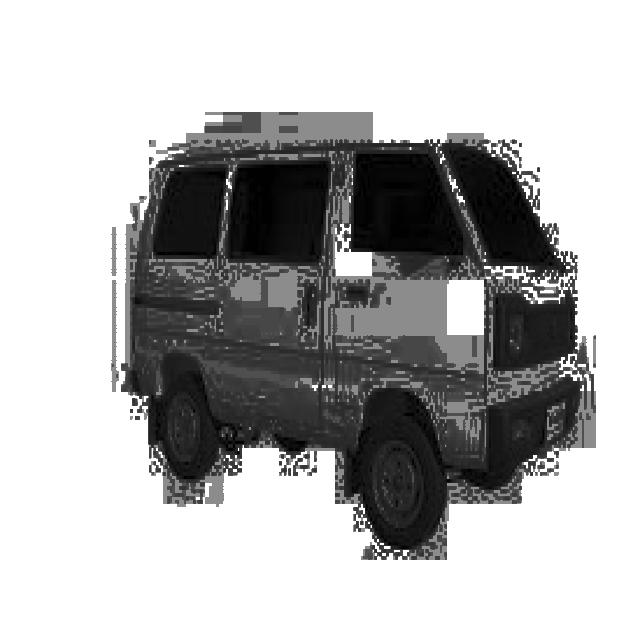LCV: (130, 133, 577, 549)
